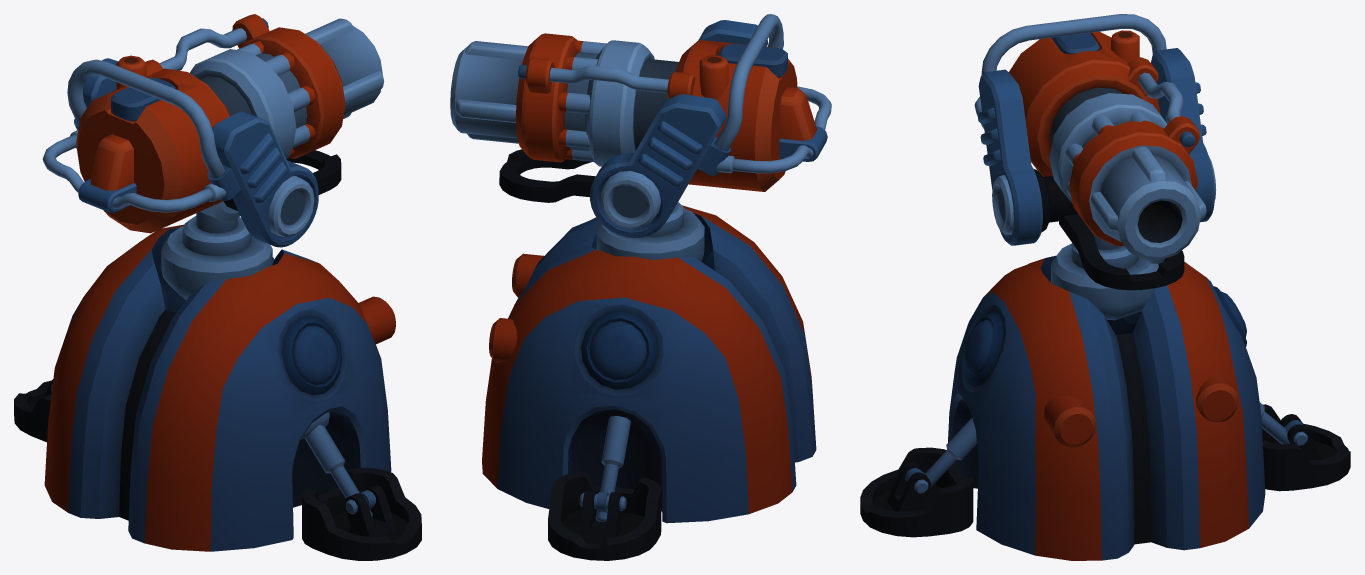
The model's file is Tower_Gun_01.fbx.
3 renders of one model, left to right at view 1: azimuth 30°, elevation 25°; view 2: azimuth 150°, elevation 25°; view 3: azimuth 270°, elevation 25°, orthographic. The views are drawn at different scales.
Visible parts, largest first — view 1: Tower_Gun_01; view 2: Tower_Gun_01; view 3: Tower_Gun_01.
Boxes of the visible parts, <box> form: Tower_Gun_01: <box>14,14,421,560</box>; Tower_Gun_01: <box>450,14,831,560</box>; Tower_Gun_01: <box>860,14,1350,560</box>.
Bounding box in the file's own units: 2.78 × 3.43 × 3.59.
